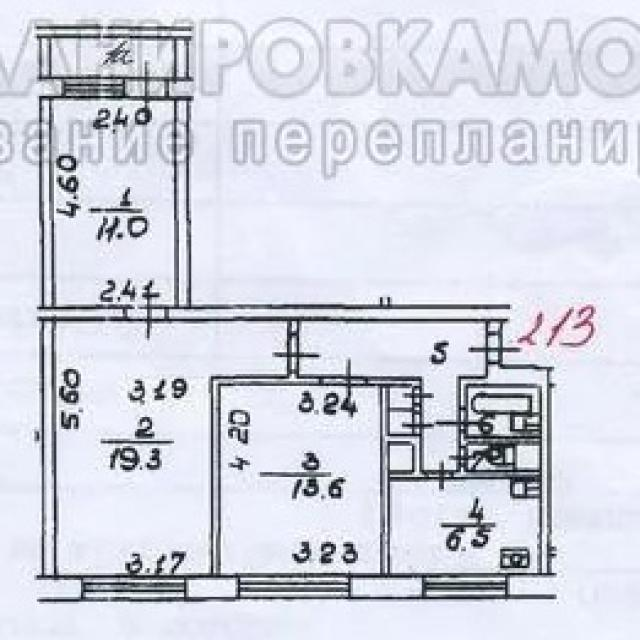Bathrooms: (467, 386, 540, 436), (469, 446, 539, 470)
Corridors: (299, 322, 487, 470), (52, 39, 174, 75), (389, 412, 413, 433), (389, 388, 413, 407)
Doors: (123, 57, 168, 120), (125, 284, 168, 343), (319, 356, 368, 405), (270, 333, 323, 373), (466, 333, 526, 364), (434, 406, 484, 431), (426, 460, 454, 493), (400, 412, 435, 435), (448, 445, 478, 467), (401, 387, 436, 405)
LBwalls: (31, 26, 194, 100), (166, 304, 512, 322), (41, 320, 57, 576), (174, 99, 192, 307), (40, 99, 55, 305), (349, 573, 423, 600), (33, 306, 127, 321), (486, 364, 550, 386), (35, 574, 82, 602), (508, 573, 558, 599), (188, 575, 237, 601), (487, 322, 503, 333)
Offices: (57, 322, 286, 575), (221, 387, 380, 572), (55, 99, 175, 303), (391, 481, 539, 572)
Walls: (209, 371, 322, 575), (453, 386, 551, 574), (367, 376, 425, 574), (455, 376, 487, 407)
Windows: (80, 574, 188, 602), (238, 573, 351, 599), (422, 573, 508, 599), (62, 76, 123, 98)
